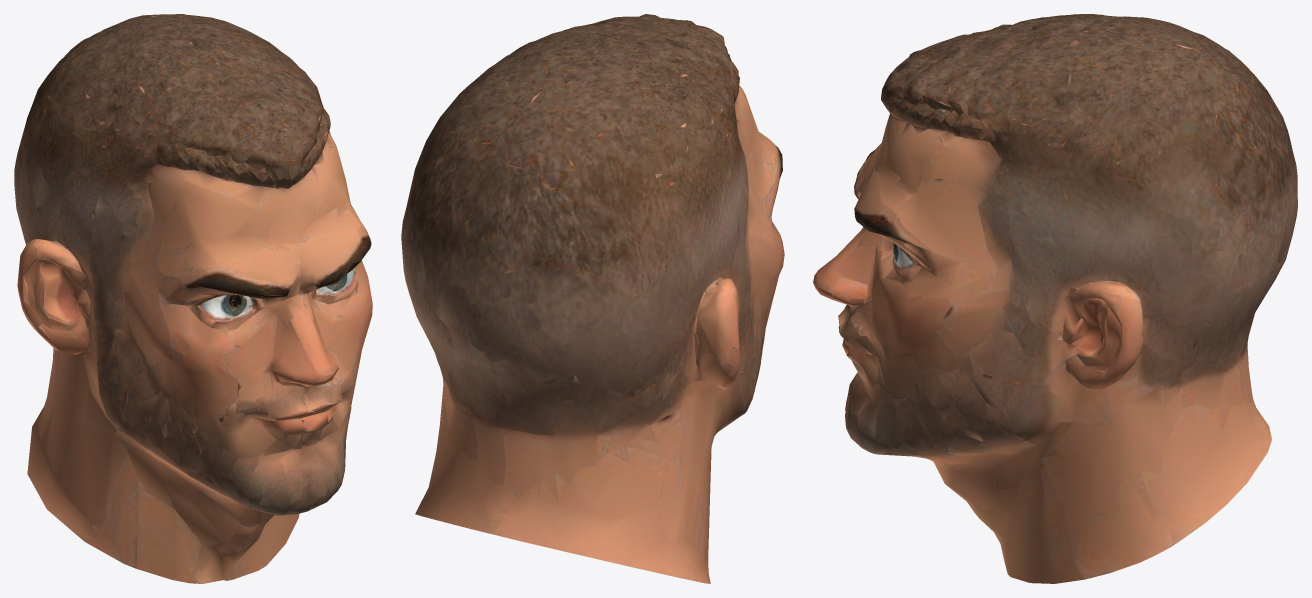
File: hdHumanLight.735828c17a.glb
The picture shows the model from 3 angles, left to right: view 1: azimuth 30°, elevation 25°; view 2: azimuth 150°, elevation 25°; view 3: azimuth 270°, elevation 25°; orthographic projection. The views are drawn at different scales.
Bounding box in the file's own units: 1.2 × 1.9 × 1.57.
1 material, 1 textured.
